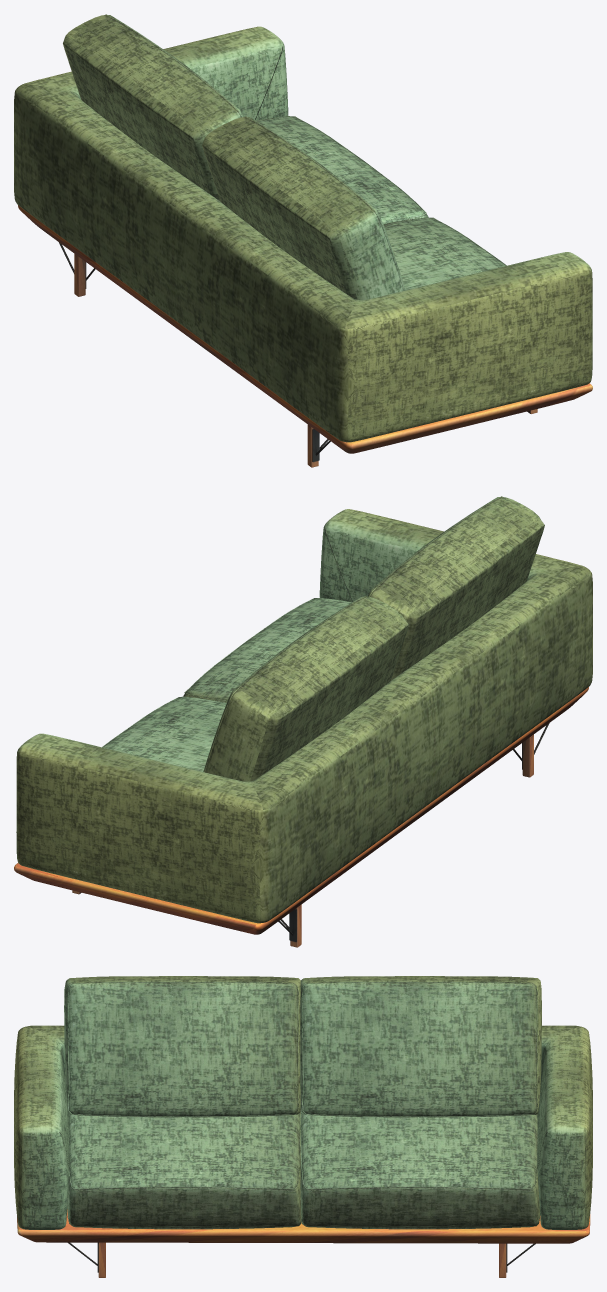
The picture shows the model from 3 angles, top to bottom: view 1: azimuth 30°, elevation 25°; view 2: azimuth 150°, elevation 25°; view 3: azimuth 270°, elevation 25°; orthographic projection. The views are drawn at different scales.
Parts seen in each view (by area): view 1: Sofa_1 Armrest, Seats1 Sofa_1, Sofa_1 Wood_Metal_Legs; view 2: Sofa_1 Armrest, Seats1 Sofa_1, Sofa_1 Wood_Metal_Legs; view 3: Seats1 Sofa_1, Sofa_1 Armrest, Sofa_1 Wood_Metal_Legs.
Boxes of the visible parts, x1,y1,x2,y2 form: Sofa_1 Armrest: [14, 26, 592, 442]; Seats1 Sofa_1: [63, 14, 506, 300]; Sofa_1 Wood_Metal_Legs: [18, 205, 592, 467]; Sofa_1 Armrest: [16, 509, 592, 923]; Seats1 Sofa_1: [102, 496, 544, 781]; Sofa_1 Wood_Metal_Legs: [14, 687, 588, 947]; Seats1 Sofa_1: [64, 976, 541, 1229]; Sofa_1 Armrest: [14, 1025, 592, 1229]; Sofa_1 Wood_Metal_Legs: [17, 1209, 590, 1277].
Bounding box in the file's own units: 1.04 × 0.9897 × 2.33.
Materials: 3 (3 with a texture image).
